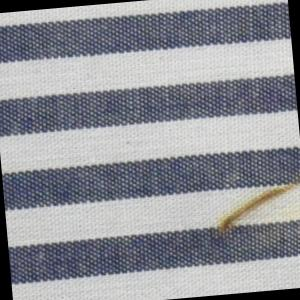Oil Stain: (210, 175, 300, 239)
